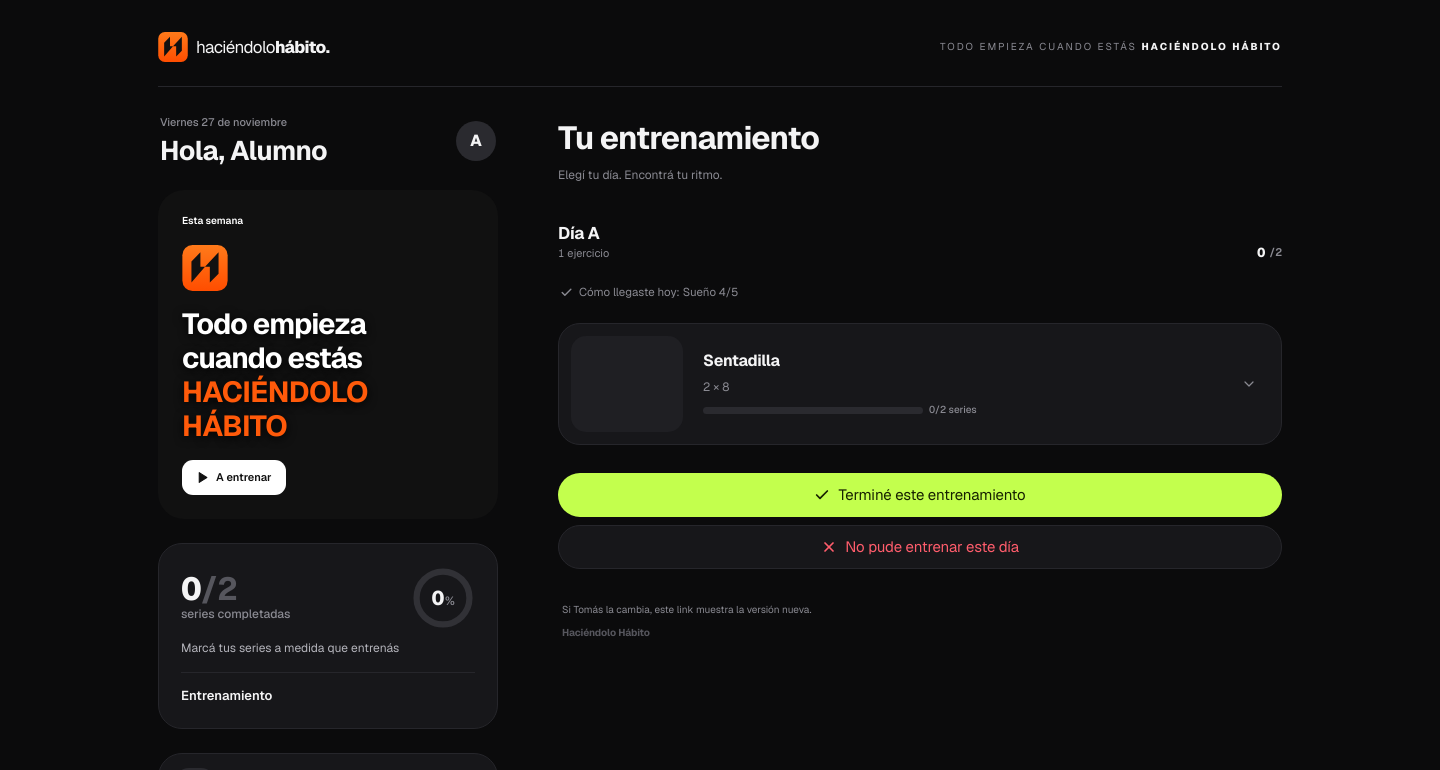
Test case: registro del alumno en la rutina por link › cierra el día como terminado con el esfuerzo de la sesión
This screenshot has width=1440, height=770.
What coordinates should you click on to do the following:
click the button "Terminé este entrenamiento"
I would click on:
 (920, 495)
Its box is [558, 473, 1282, 517].
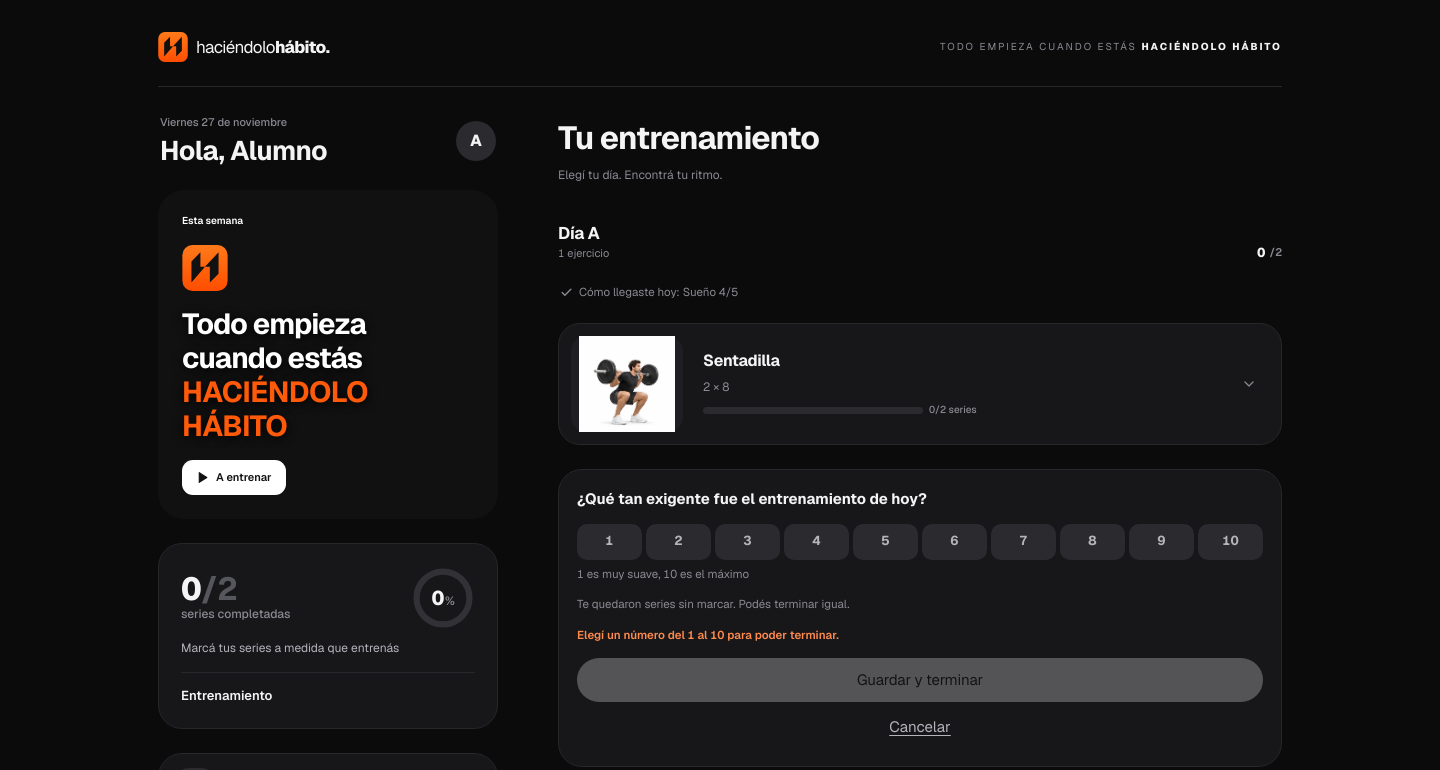
Now the button "Guardar y terminar" is disabled, box [577, 658, 1263, 702]
What coordinates should you click on to do the following:
click the button "7"
I would click on:
 (1024, 542)
Its box is [991, 524, 1056, 560].
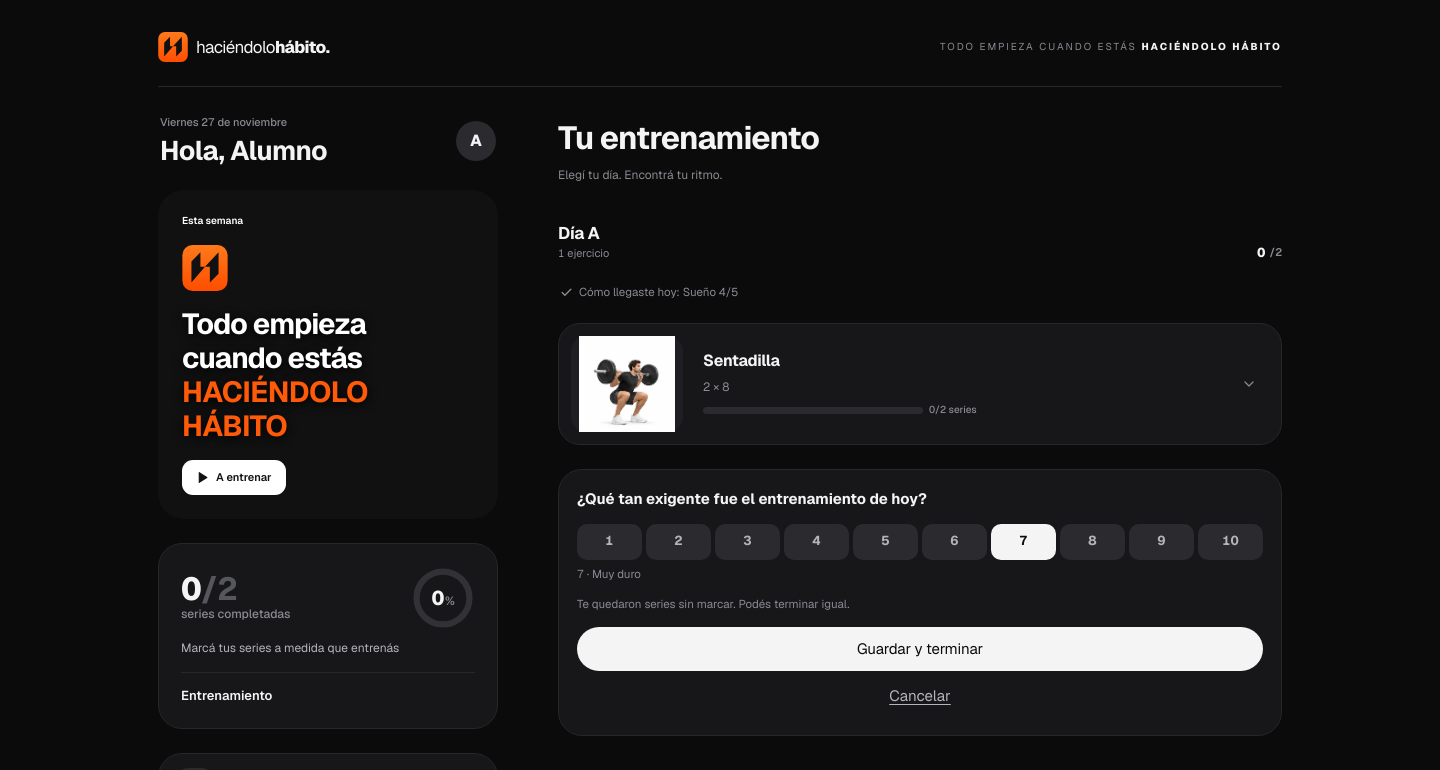
What coordinates should you click on to do the following:
click the button "Guardar y terminar"
I would click on:
 (920, 649)
Its box is [577, 627, 1263, 671].
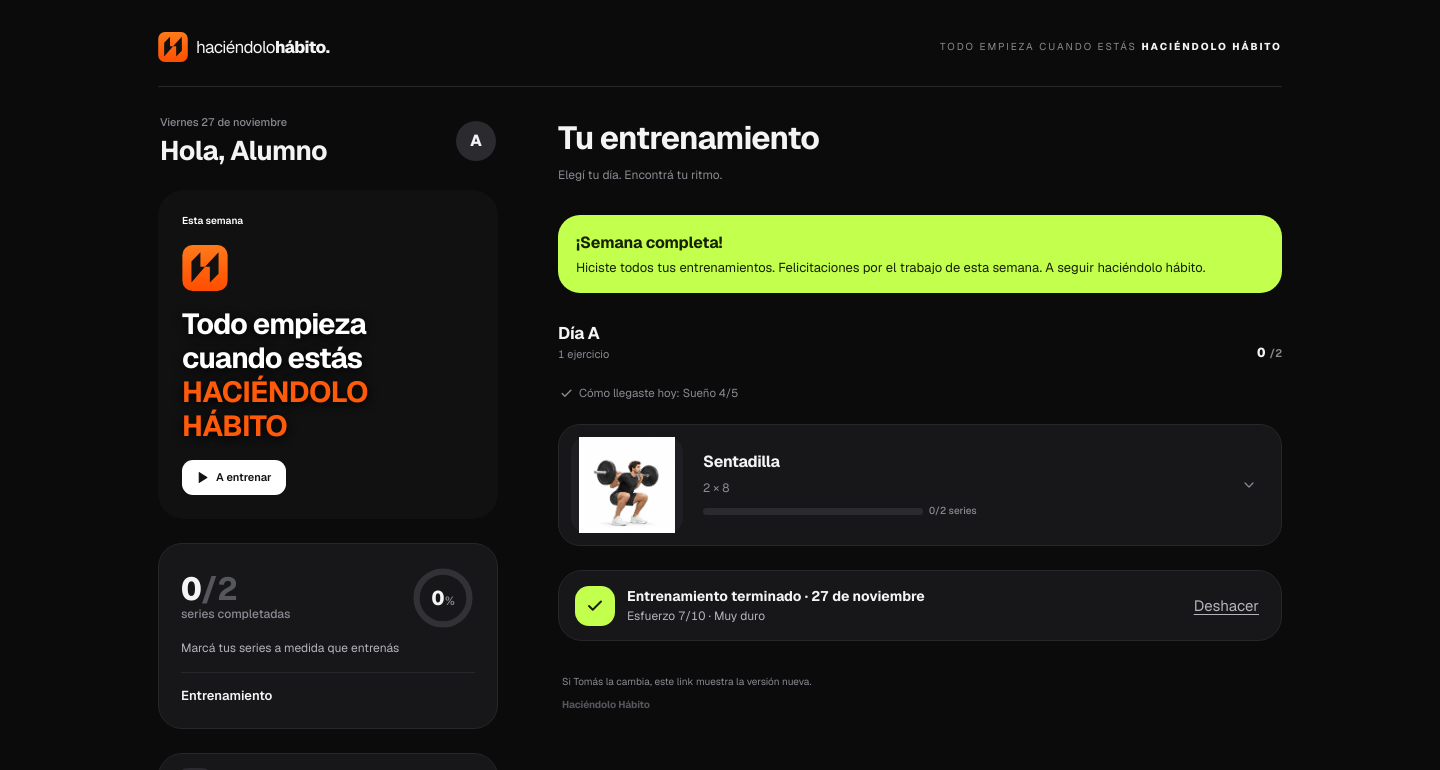
Now the message with class "is-done" shows "Entrenamiento terminado", box [627, 587, 802, 605]
